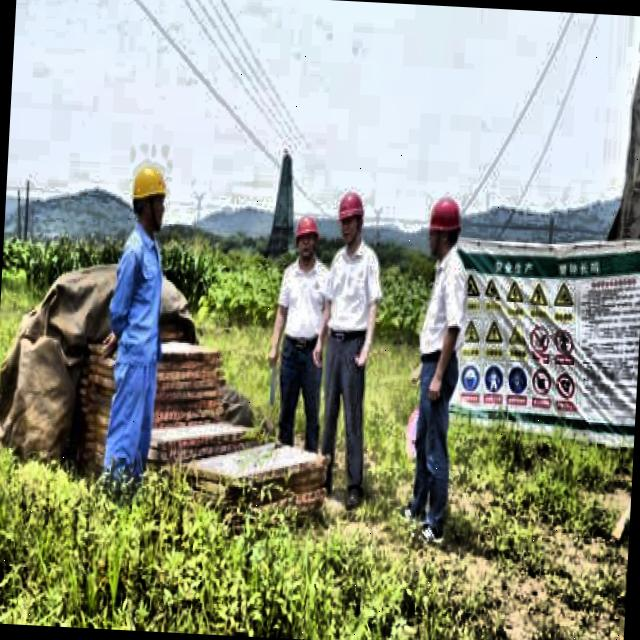helmet: (126, 154, 170, 243), (423, 190, 466, 266), (333, 186, 367, 248), (292, 206, 325, 269)
